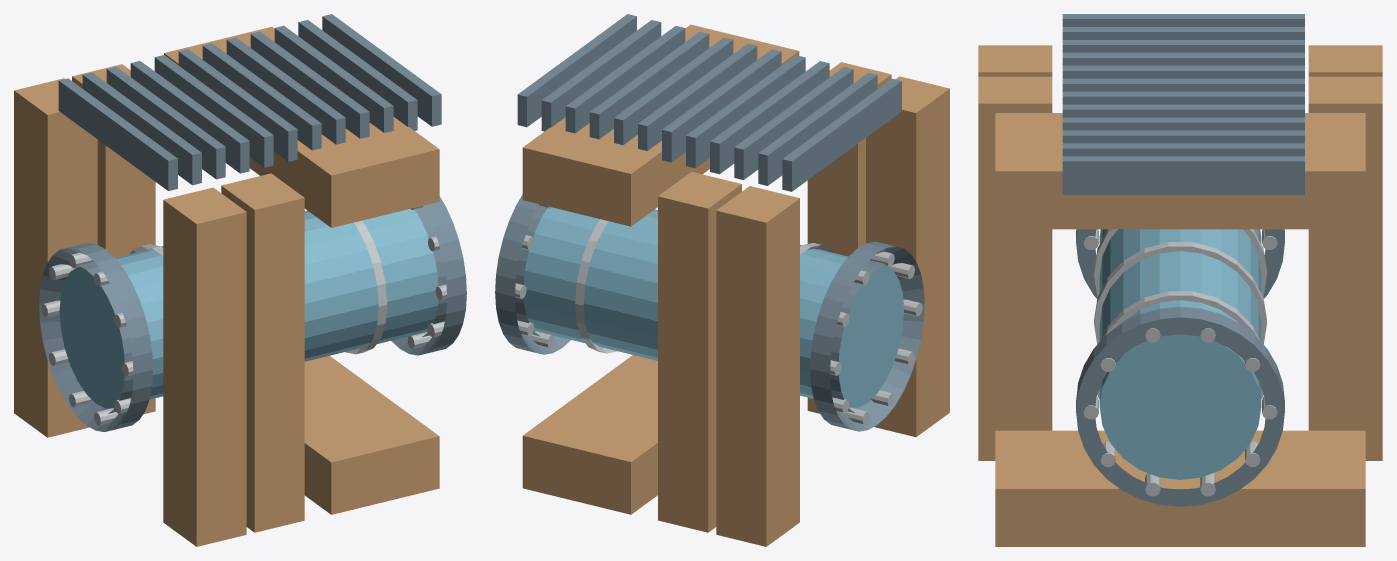
The model's file is 15_L75_ProgrammableXYBeamScanner.glb.
The picture shows the model from 3 angles, left to right: view 1: azimuth 30°, elevation 25°; view 2: azimuth 150°, elevation 25°; view 3: azimuth 270°, elevation 25°; orthographic projection. The views are drawn at different scales.
Visible parts, largest first — view 1: ProgrammableXYBeamScanner_Node_0027, ProgrammableXYBeamScanner_Node_0000, ProgrammableXYBeamScanner_Node_0029, ProgrammableXYBeamScanner_Node_0026, ProgrammableXYBeamScanner_Node_0030, ProgrammableXYBeamScanner_Node_0031, ProgrammableXYBeamScanner_Node_0001, ProgrammableXYBeamScanner_Node_0028, ProgrammableXYBeamScanner_Node_0032, ProgrammableXYBeamScanner_Node_0012, ProgrammableXYBeamScanner_Node_0037, ProgrammableXYBeamScanner_Node_0043 (+10 smaller); view 2: ProgrammableXYBeamScanner_Node_0026, ProgrammableXYBeamScanner_Node_0000, ProgrammableXYBeamScanner_Node_0028, ProgrammableXYBeamScanner_Node_0027, ProgrammableXYBeamScanner_Node_0030, ProgrammableXYBeamScanner_Node_0031, ProgrammableXYBeamScanner_Node_0001, ProgrammableXYBeamScanner_Node_0029, ProgrammableXYBeamScanner_Node_0032, ProgrammableXYBeamScanner_Node_0012, ProgrammableXYBeamScanner_Node_0035, ProgrammableXYBeamScanner_Node_0033 (+10 smaller); view 3: ProgrammableXYBeamScanner_Node_0030, ProgrammableXYBeamScanner_Node_0000, ProgrammableXYBeamScanner_Node_0031, ProgrammableXYBeamScanner_Node_0028, ProgrammableXYBeamScanner_Node_0029, ProgrammableXYBeamScanner_Node_0012, ProgrammableXYBeamScanner_Node_0043, ProgrammableXYBeamScanner_Node_0035, ProgrammableXYBeamScanner_Node_0036, ProgrammableXYBeamScanner_Node_0037, ProgrammableXYBeamScanner_Node_0038, ProgrammableXYBeamScanner_Node_0039 (+12 smaller).
Boxes of the visible parts, x1,y1,x2,y2 form: ProgrammableXYBeamScanner_Node_0027: (163, 187, 246, 546); ProgrammableXYBeamScanner_Node_0000: (59, 209, 438, 408); ProgrammableXYBeamScanner_Node_0029: (221, 173, 304, 532); ProgrammableXYBeamScanner_Node_0026: (14, 78, 97, 437); ProgrammableXYBeamScanner_Node_0030: (304, 356, 439, 514); ProgrammableXYBeamScanner_Node_0031: (164, 27, 439, 227); ProgrammableXYBeamScanner_Node_0001: (39, 243, 153, 431); ProgrammableXYBeamScanner_Node_0028: (72, 64, 155, 414); ProgrammableXYBeamScanner_Node_0032: (58, 78, 177, 190); ProgrammableXYBeamScanner_Node_0012: (391, 196, 466, 355); ProgrammableXYBeamScanner_Node_0037: (178, 49, 297, 161); ProgrammableXYBeamScanner_Node_0043: (322, 14, 441, 126); ProgrammableXYBeamScanner_Node_0026: (716, 186, 799, 546); ProgrammableXYBeamScanner_Node_0000: (523, 207, 903, 407); ProgrammableXYBeamScanner_Node_0028: (658, 171, 741, 532); ProgrammableXYBeamScanner_Node_0027: (866, 76, 949, 437); ProgrammableXYBeamScanner_Node_0030: (522, 355, 657, 514); ProgrammableXYBeamScanner_Node_0031: (522, 24, 799, 226); ProgrammableXYBeamScanner_Node_0001: (810, 241, 924, 431); ProgrammableXYBeamScanner_Node_0029: (807, 62, 891, 413); ProgrammableXYBeamScanner_Node_0032: (782, 78, 901, 191); ProgrammableXYBeamScanner_Node_0012: (495, 194, 570, 354); ProgrammableXYBeamScanner_Node_0035: (710, 61, 829, 174); ProgrammableXYBeamScanner_Node_0033: (758, 72, 877, 185); ProgrammableXYBeamScanner_Node_0030: (995, 430, 1365, 546); ProgrammableXYBeamScanner_Node_0000: (1099, 229, 1261, 479); ProgrammableXYBeamScanner_Node_0031: (995, 113, 1365, 229); ProgrammableXYBeamScanner_Node_0028: (1308, 76, 1382, 460); ProgrammableXYBeamScanner_Node_0029: (978, 76, 1052, 460); ProgrammableXYBeamScanner_Node_0012: (1076, 306, 1284, 506); ProgrammableXYBeamScanner_Node_0043: (1062, 156, 1304, 194); ProgrammableXYBeamScanner_Node_0035: (1062, 52, 1304, 65); ProgrammableXYBeamScanner_Node_0036: (1062, 65, 1304, 78); ProgrammableXYBeamScanner_Node_0037: (1062, 78, 1304, 91); ProgrammableXYBeamScanner_Node_0038: (1062, 91, 1304, 104); ProgrammableXYBeamScanner_Node_0039: (1062, 104, 1304, 117).
Bounding box in the file's own units: 1.27 × 1.32 × 1.2.
